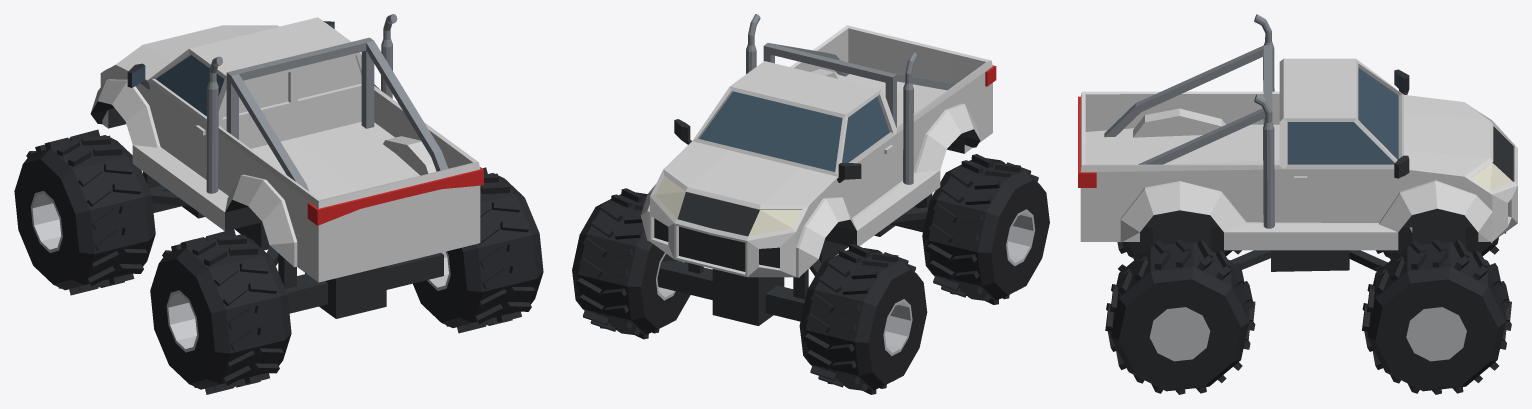
Rendered from offroad.glb.
3 renders of one model, left to right at view 1: azimuth 30°, elevation 25°; view 2: azimuth 150°, elevation 25°; view 3: azimuth 270°, elevation 25°, orthographic. The views are drawn at different scales.
Parts seen in each view (by area): view 1: Body, Wheel_RL, Wheel_FL, Wheel_RR; view 2: Body, Wheel_FL, Wheel_RL, Wheel_FR; view 3: Body, Wheel_RR, Wheel_FR, Wheel_FL, Wheel_RL.
Boxes of the visible parts, x1=… form: Body: x1=90, y1=14, x2=483, y2=318; Wheel_RL: x1=150, y1=229, x2=291, y2=394; Wheel_FL: x1=14, y1=129, x2=155, y2=295; Wheel_RR: x1=413, y1=167, x2=543, y2=333; Body: x1=640, y1=14, x2=996, y2=325; Wheel_FL: x1=799, y1=244, x2=927, y2=394; Wheel_RL: x1=922, y1=154, x2=1049, y2=304; Wheel_FR: x1=572, y1=188, x2=690, y2=339; Body: x1=1078, y1=14, x2=1517, y2=271; Wheel_RR: x1=1105, y1=239, x2=1255, y2=394; Wheel_FR: x1=1362, y1=239, x2=1511, y2=394; Wheel_FL: x1=1376, y1=227, x2=1505, y2=259; Wheel_RL: x1=1117, y1=227, x2=1241, y2=259.
Size of the model in its own units: 4.47 by 3.73 by 5.49.
